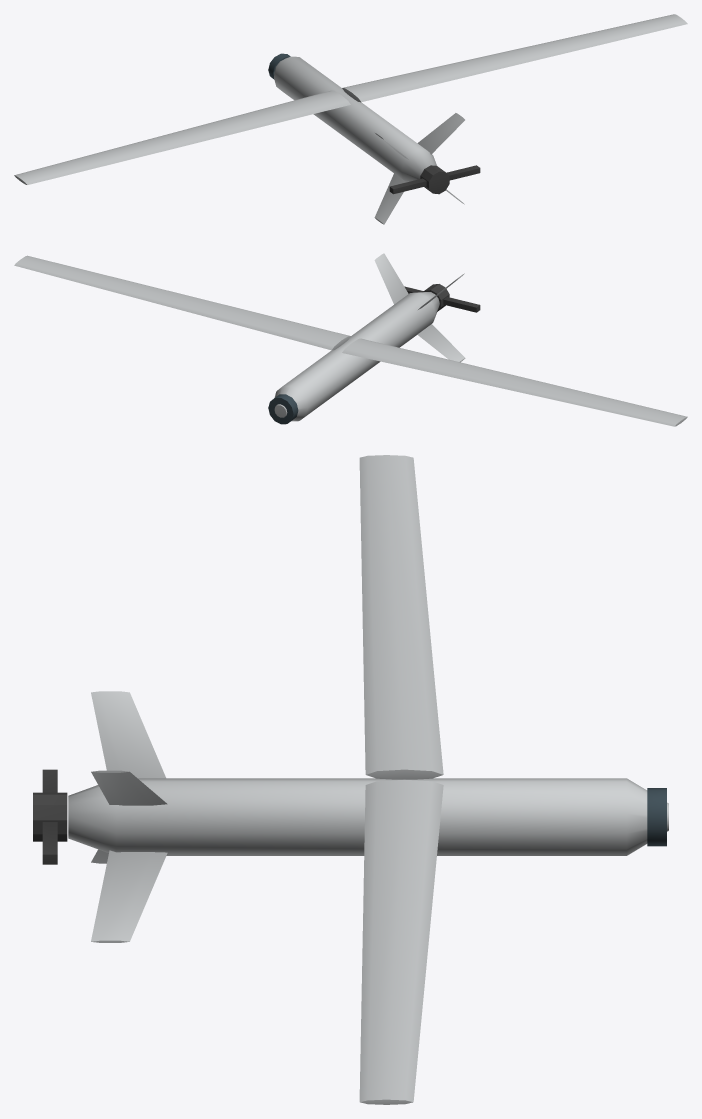
Rendered from usa_lm_alt600.glb.
3 renders of one model, top to bottom at view 1: azimuth 30°, elevation 25°; view 2: azimuth 150°, elevation 25°; view 3: azimuth 270°, elevation 25°, orthographic. The views are drawn at different scales.
Parts seen in each view (by area): view 1: body, propy_0; view 2: body, propy_0; view 3: body, propy_0.
Part boxes in pixels (x1,y1,x2,y2): body: [14, 14, 687, 224]; propy_0: [389, 165, 480, 194]; body: [14, 253, 687, 426]; propy_0: [404, 284, 480, 312]; body: [68, 455, 668, 1104]; propy_0: [33, 769, 67, 864].
Bounding box in the file's own units: 2.54 × 0.3169 × 1.06.
